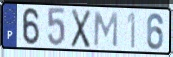1: (127, 11, 137, 51)
5: (46, 7, 67, 50)
6: (21, 6, 41, 48), (146, 12, 165, 51)
M: (92, 11, 119, 49)
X: (70, 7, 92, 50)
